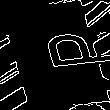P_W: (9, 32, 101, 78)
